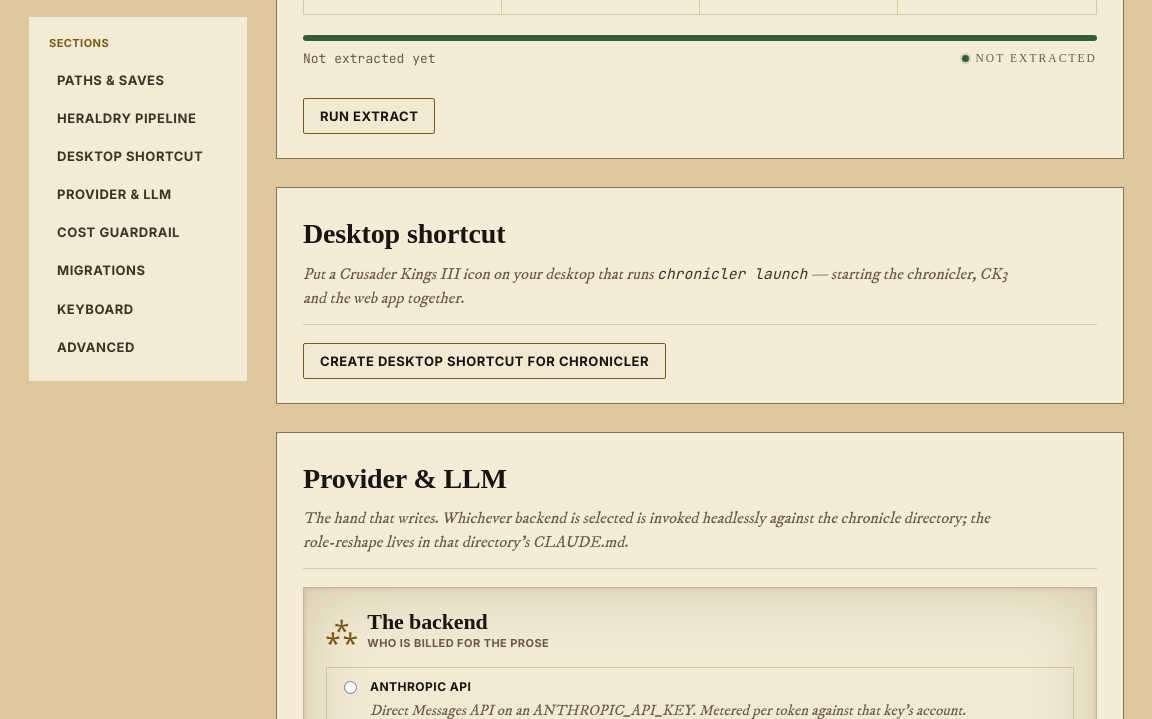
Test case: SettingsPage desktop shortcut card › shows the created path and platform on success
(page scrolled)
Click the button with test id "desktop-shortcut-button".
click(484, 360)  # box x1=303 y1=342 x2=666 y2=378
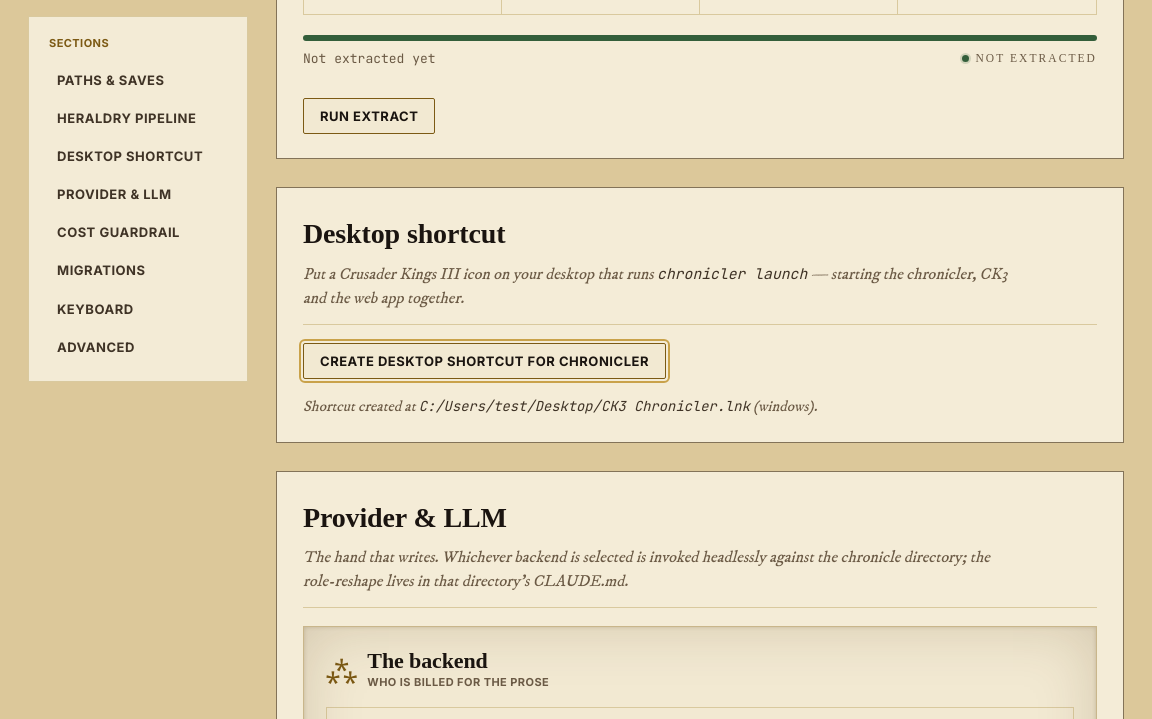
Now the element with test id "desktop-shortcut-result" shows "C:/Users/test/Desktop/CK3 Chronicler.lnk", box x1=419 y1=396 x2=750 y2=414
Now the element with test id "desktop-shortcut-result" shows "windows", box x1=758 y1=396 x2=809 y2=416
